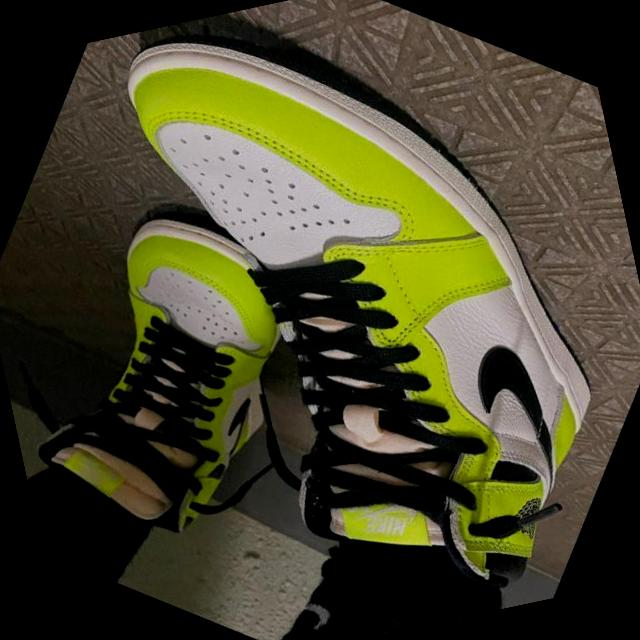nike_original_jordan: (0, 0, 640, 640), (0, 165, 386, 594)
